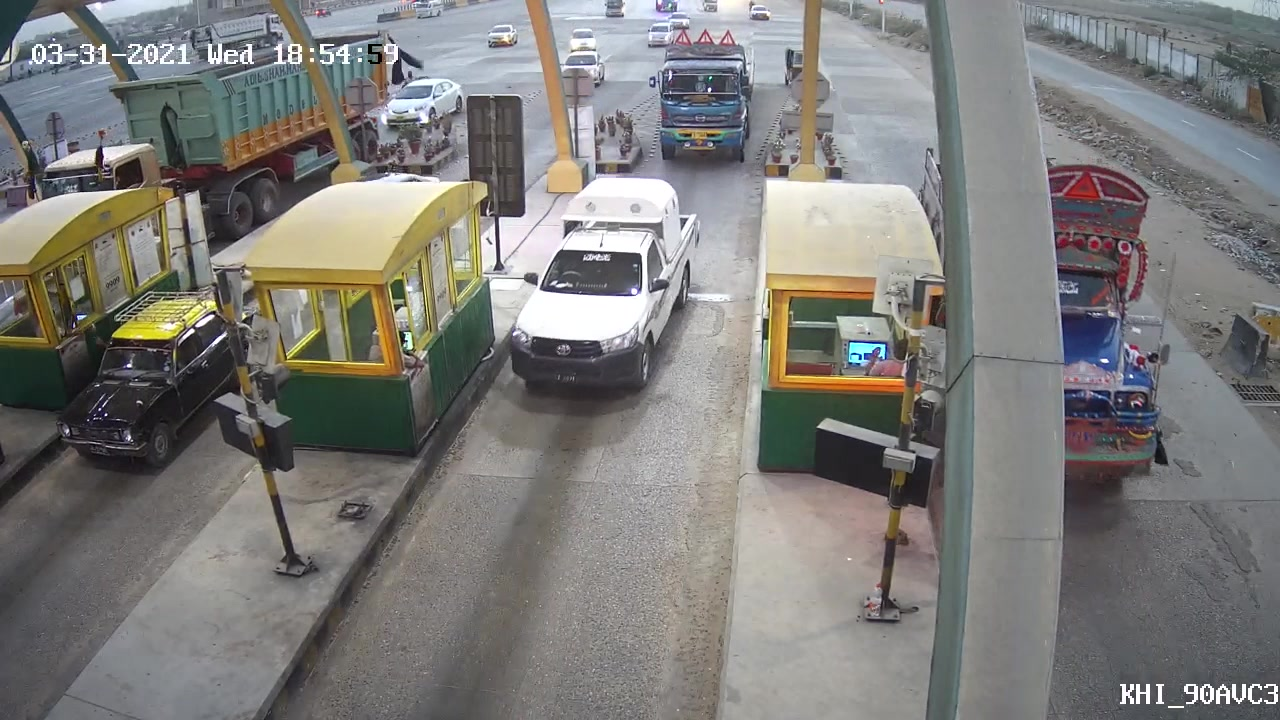F1: (503, 179, 705, 394)
